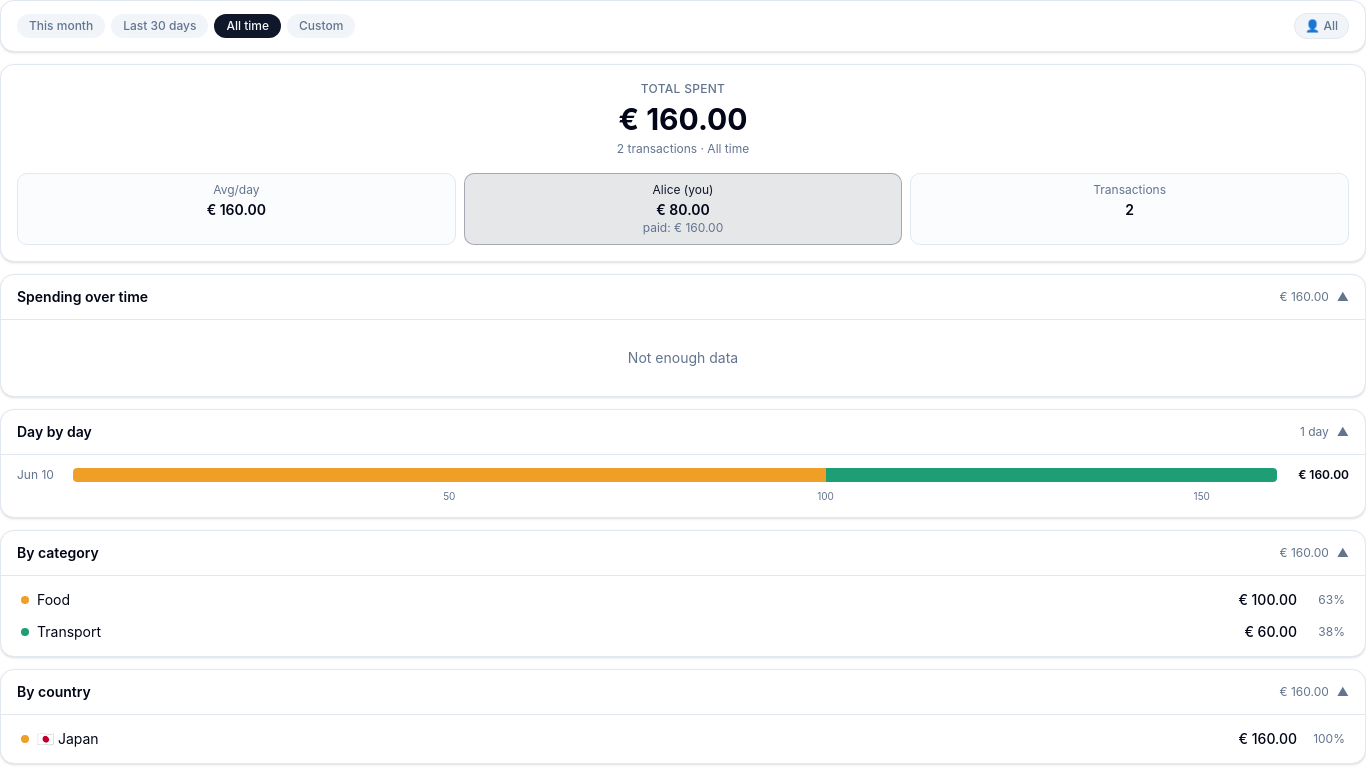
Test case: DashboardTab — global controls › selecting You changes every card total consistently
Click the button with aria-label "Whose spending": x=1322, y=26 [1294, 13, 1349, 39]
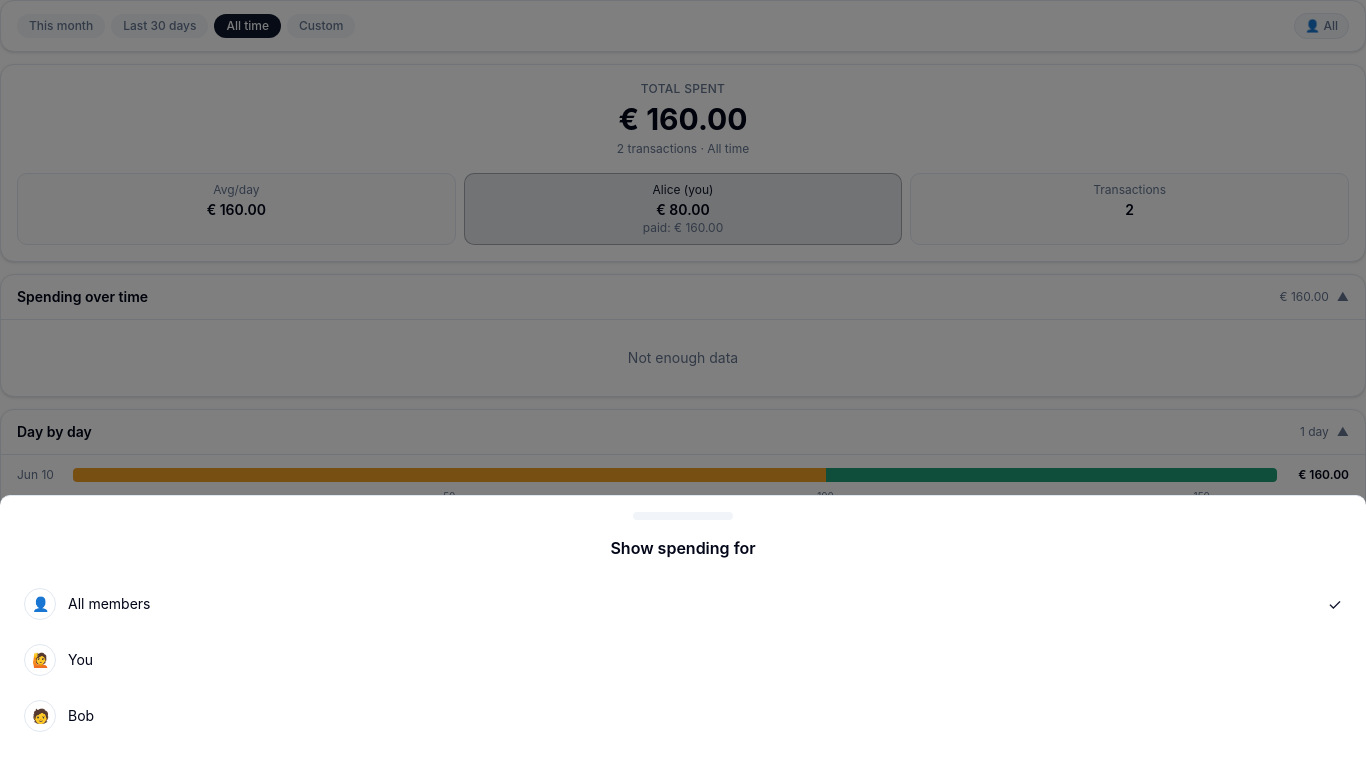
Click the button "🙋 You": x=40, y=660 [16, 632, 1350, 688]
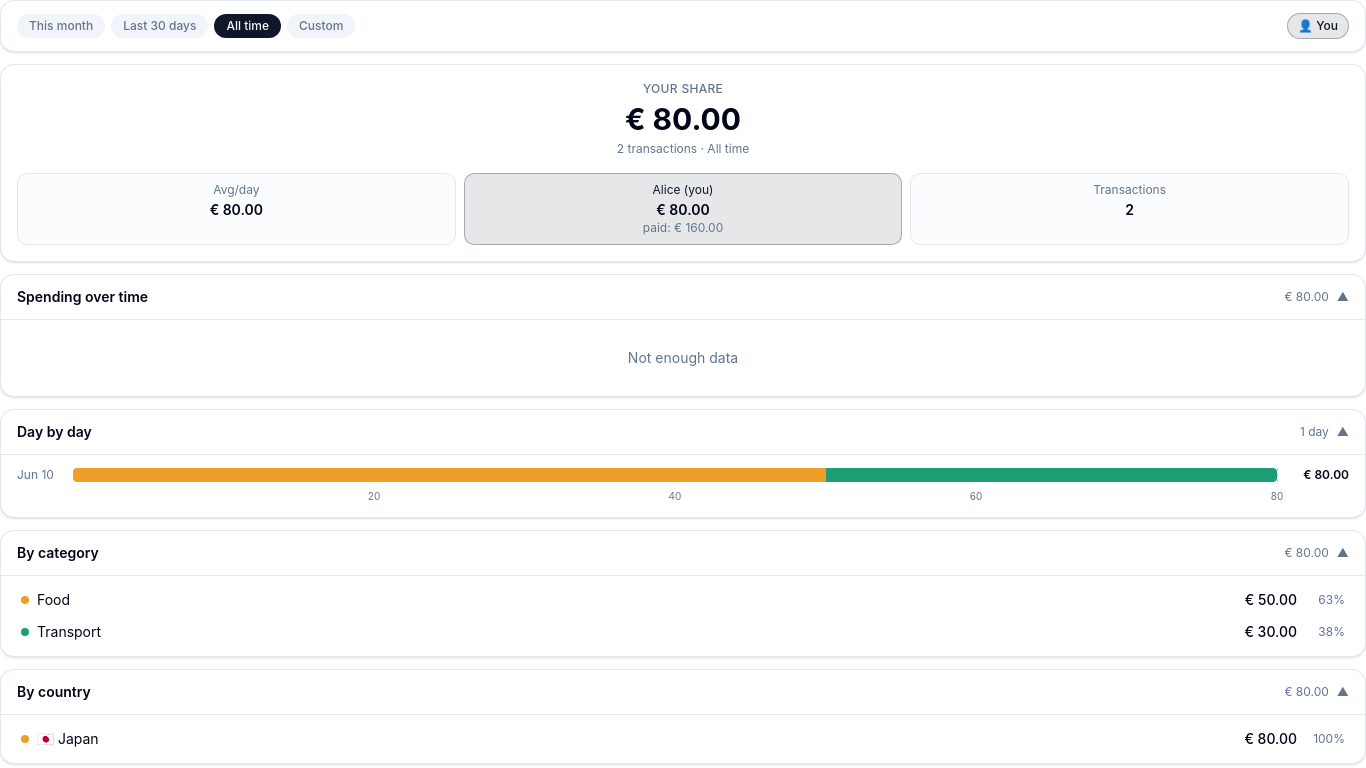
Check: the text with class "uppercase" reads "Your share", box [643, 81, 723, 96]
Check: the text "€ 50.00" is shown, box [1245, 590, 1297, 610]
Check: the text "€ 30.00" is shown, box [1244, 622, 1297, 642]
